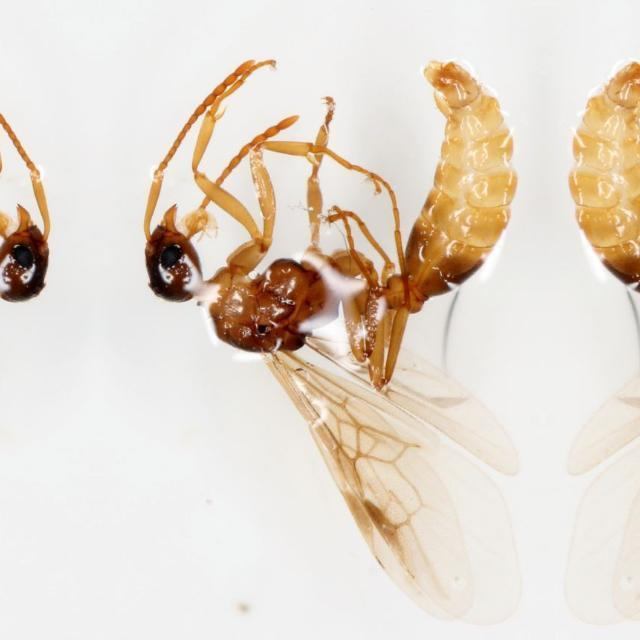Myrmica: (98, 45, 516, 443), (0, 45, 94, 443)
